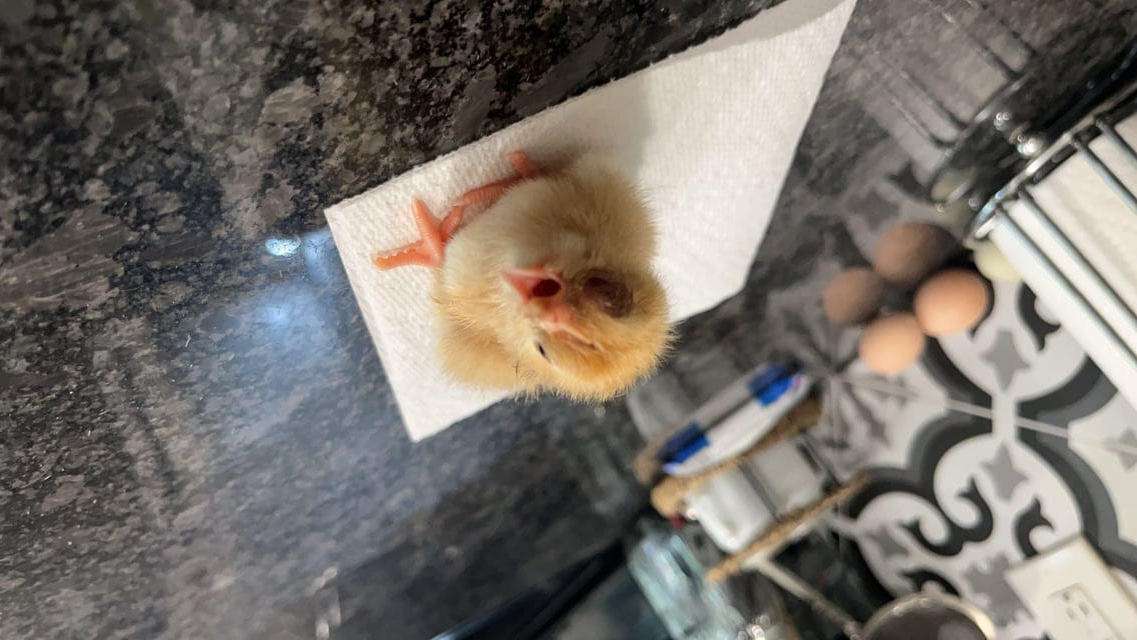Unhealthy: (363, 108, 692, 461)
